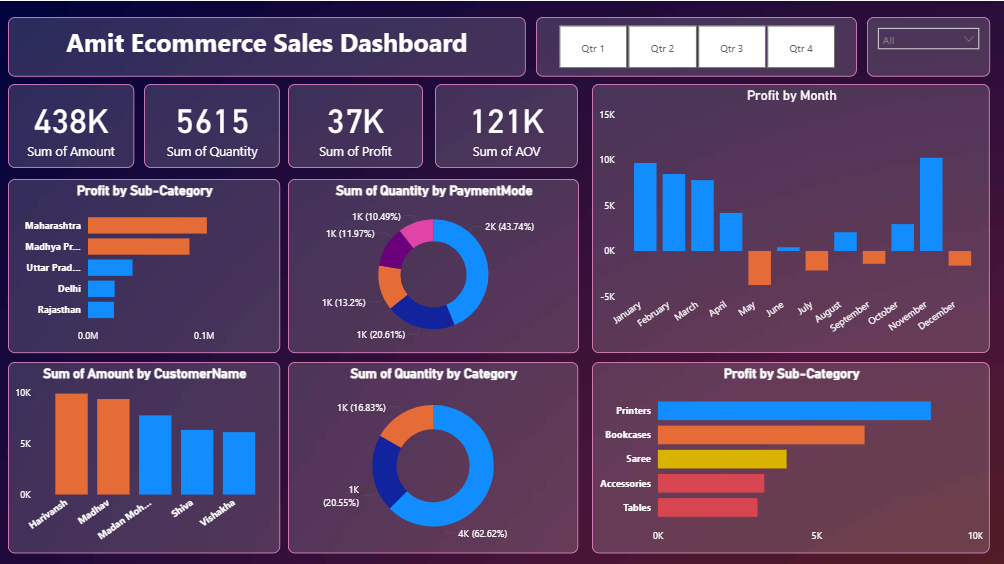

This screenshot's page, from the dashboard's own definition file:
{"tool":"powerbi","page":{"name":"Page 1","canvas":[1280,720],"ordinal":0},"visuals":[{"type":"textbox","box":[10.2,20.4,660.4,76.5],"z":0},{"type":"columnChart","title":"Profit by Month","fields":{"Category":["Orders.Order Date.Variation.Date Hierarchy.Month","Orders.Order Date.Variation.Date Hierarchy.Day"],"Y":["Sum(Details.Profit)"]},"box":[754.7,105.8,507.4,342.9],"z":1000},{"type":"barChart","title":"Profit by Sub-Category","fields":{"Category":["Details.Sub-Category"],"Y":["Sum(Details.Profit)"]},"box":[754.7,460.2,507.4,243.5],"z":2000},{"type":"donutChart","fields":{"Category":["Details.Category"],"Y":["Sum(Details.Quantity)"]},"box":[367.2,460.2,369.7,243.5],"z":3000},{"type":"donutChart","fields":{"Category":["Details.PaymentMode"],"Y":["Sum(Details.Quantity)"]},"box":[367.2,226.9,371,221.8],"z":4000},{"type":"card","fields":{"Values":["Sum(Details.Amount)"]},"box":[10.2,105.8,160.6,107.1],"z":5000},{"type":"card","fields":{"Values":["Sum(Details.Quantity)"]},"box":[183.6,105.8,173.4,107.1],"z":6000},{"type":"card","fields":{"Values":["Sum(Details.Profit)"]},"box":[367.2,105.8,172.1,107.1],"z":7000},{"type":"card","fields":{"Values":["Sum(Details.AOV)"]},"box":[554.6,105.8,182.3,107.1],"z":8000},{"type":"barChart","title":"Profit by Sub-Category","fields":{"Category":["Orders.State"],"Y":["Sum(Details.Amount)"]},"box":[10.2,226.9,346.8,221.8],"z":9000},{"type":"columnChart","fields":{"Category":["Orders.CustomerName"],"Y":["Sum(Details.Amount)"]},"box":[10,460,347,244],"z":10000},{"type":"slicer","fields":{"Values":["Orders.Order Date.Variation.Date Hierarchy.Quarter"]},"box":[683.3,20.4,409.2,76.5],"z":11000},{"type":"slicer","fields":{"Values":["Orders.State"]},"box":[1105.3,20.4,156.8,76.5],"z":12000}]}

Visuals, with their boxes in screenshot pixels (x1, y1, x2, y2), scaled from the page's 1280x720 canvas onto the 1004x564 screenshot:
textbox: bbox(8, 16, 526, 76)
"Profit by Month" columnChart: bbox(592, 83, 990, 351)
"Profit by Sub-Category" barChart: bbox(592, 360, 990, 551)
donutChart - Details.Category x Sum(Details.Quantity): bbox(288, 360, 578, 551)
donutChart - Details.PaymentMode x Sum(Details.Quantity): bbox(288, 178, 579, 351)
card - Sum(Details.Amount): bbox(8, 83, 134, 167)
card - Sum(Details.Quantity): bbox(144, 83, 280, 167)
card - Sum(Details.Profit): bbox(288, 83, 423, 167)
card - Sum(Details.AOV): bbox(435, 83, 578, 167)
"Profit by Sub-Category" barChart: bbox(8, 178, 280, 351)
columnChart - Orders.CustomerName x Sum(Details.Amount): bbox(8, 360, 280, 551)
slicer - Orders.Order Date.Variation.Date Hierarchy.Quarter: bbox(536, 16, 857, 76)
slicer - Orders.State: bbox(867, 16, 990, 76)
